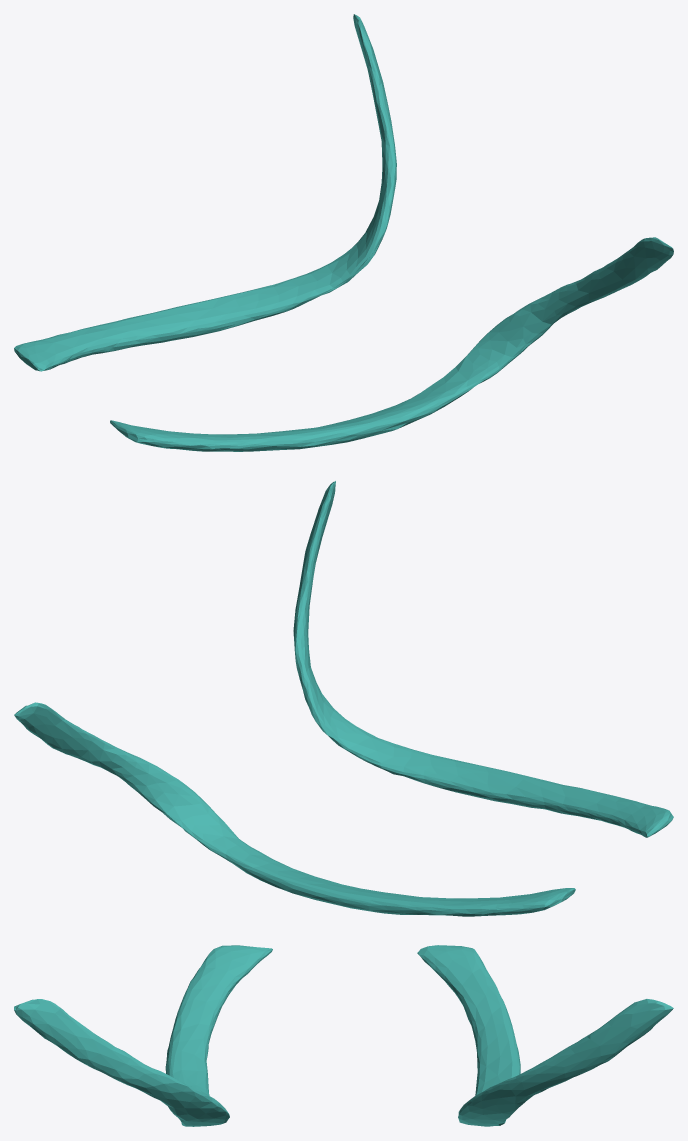
The picture shows the model from 3 angles, top to bottom: view 1: azimuth 30°, elevation 25°; view 2: azimuth 150°, elevation 25°; view 3: azimuth 270°, elevation 25°; orthographic projection. The views are drawn at different scales.
Visible parts, largest first — view 1: 671.obj; view 2: 671.obj; view 3: 671.obj.
Part boxes in pixels (x1=…): 671.obj: x1=14, y1=14, x2=673, y2=451; 671.obj: x1=14, y1=481, x2=673, y2=916; 671.obj: x1=14, y1=945, x2=673, y2=1126.
Size of the model in its own units: 4184 by 1788 by 5243.
